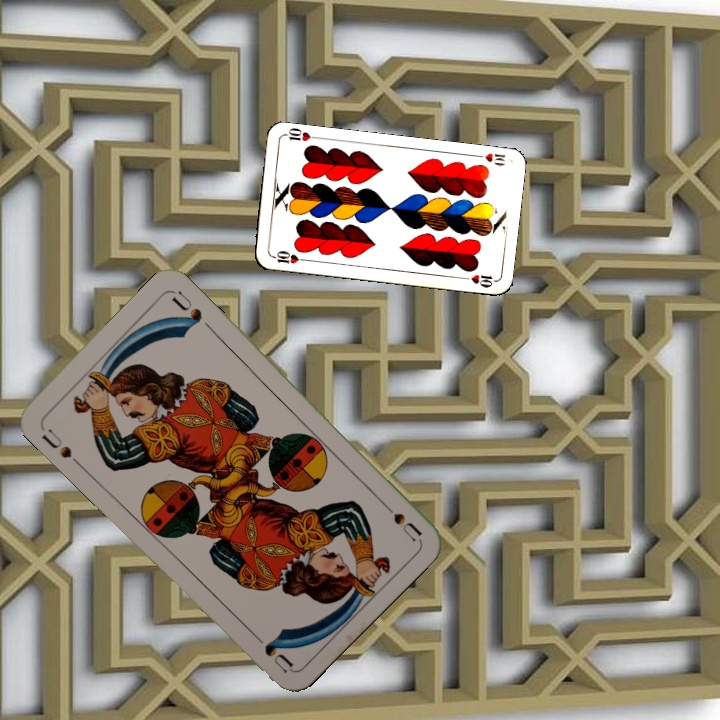H10: (268, 246, 309, 266), (470, 149, 508, 169)
SU: (374, 495, 424, 544), (37, 424, 75, 461)
